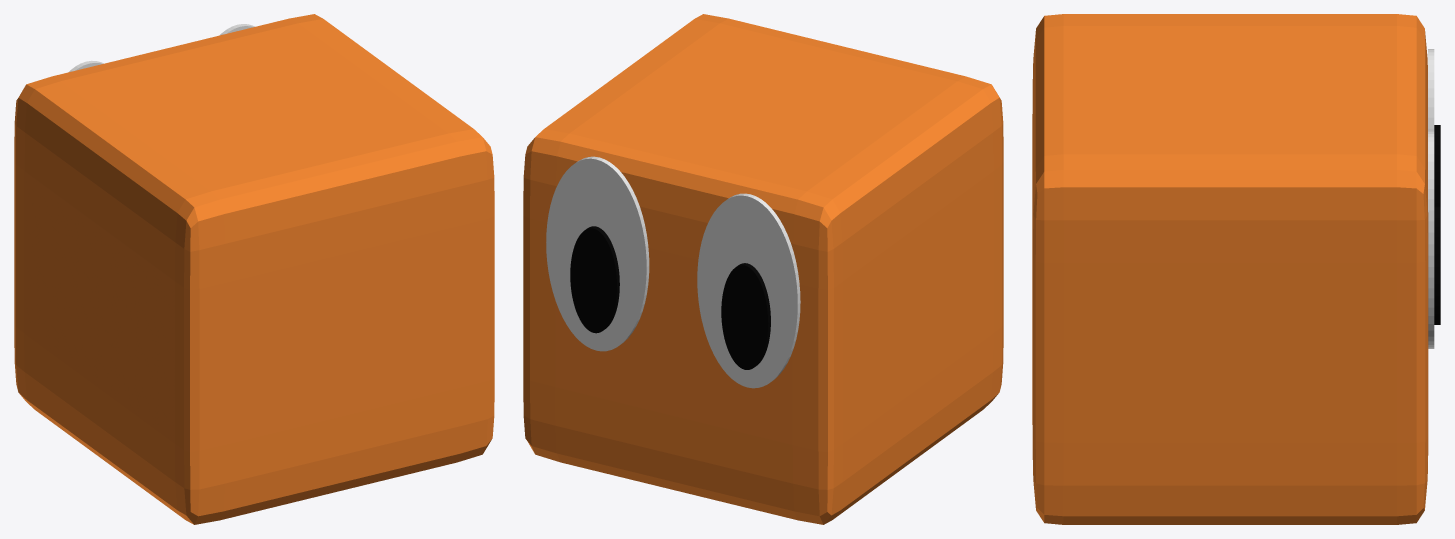
Rendered from player-orange.glb.
The picture shows the model from 3 angles, left to right: view 1: azimuth 30°, elevation 25°; view 2: azimuth 150°, elevation 25°; view 3: azimuth 270°, elevation 25°; orthographic projection. The views are drawn at different scales.
Visible parts, largest first — view 1: player-body; view 2: player-body, player-eye-right-white, player-eye-right-white.001, player-eye-right-black, player-eye-right-black.001; view 3: player-body, player-eye-right-white, player-eye-right-black, player-eye-right-black.001, player-eye-right-white.001.
Part boxes in pixels (x1,y1,x2,y2): player-body: (14, 14, 494, 524); player-body: (523, 14, 1003, 524); player-eye-right-white: (546, 156, 649, 351); player-eye-right-white.001: (697, 193, 800, 388); player-eye-right-black: (570, 226, 619, 333); player-eye-right-black.001: (721, 263, 770, 369); player-body: (1032, 14, 1428, 524); player-eye-right-white: (1428, 130, 1434, 348); player-eye-right-black: (1434, 206, 1440, 324); player-eye-right-black.001: (1434, 125, 1440, 206); player-eye-right-white.001: (1428, 49, 1434, 130).
Size of the model in its own units: 0.4 by 0.4 by 0.4122.
